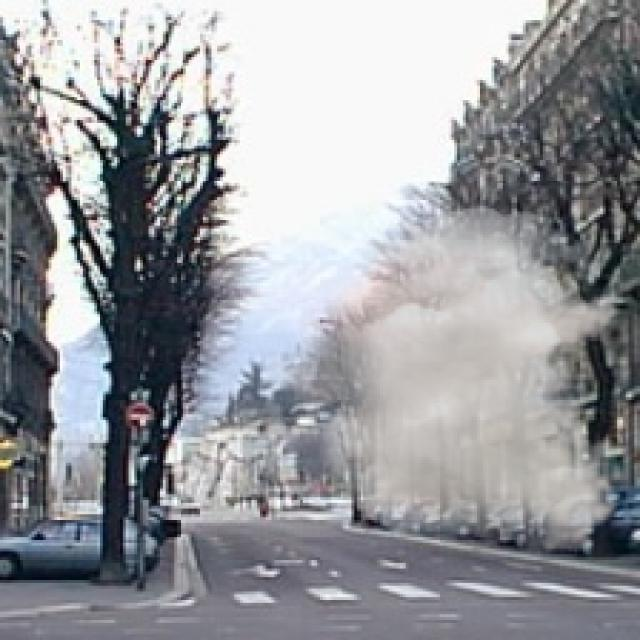Smoke: (274, 206, 629, 554)
